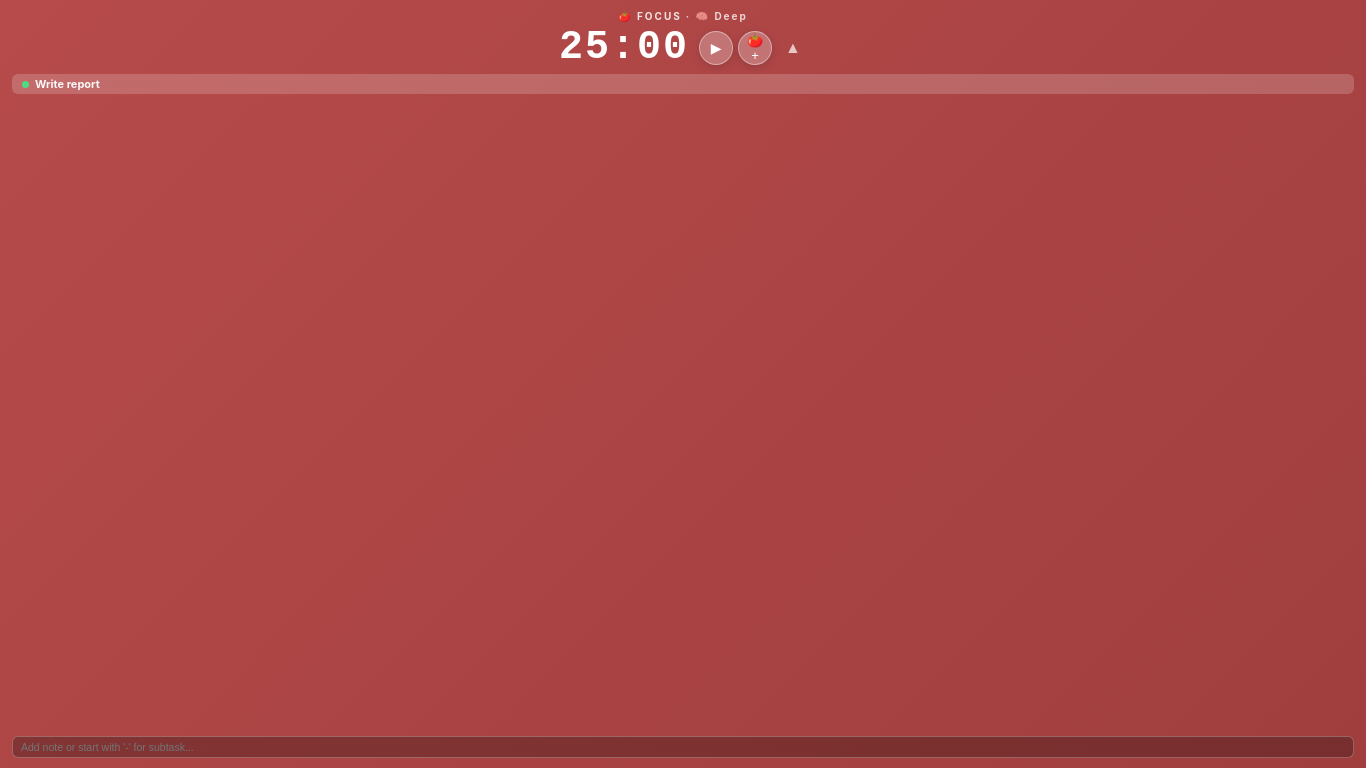
PomodoroWidgetContent Component › opens new pomodoro creation panel when clicking 🍅+
The width and height of the screenshot is (1366, 768).
Click the button titled "Start a new Pomodoro": (755, 48) left=738, top=31, right=772, bottom=65
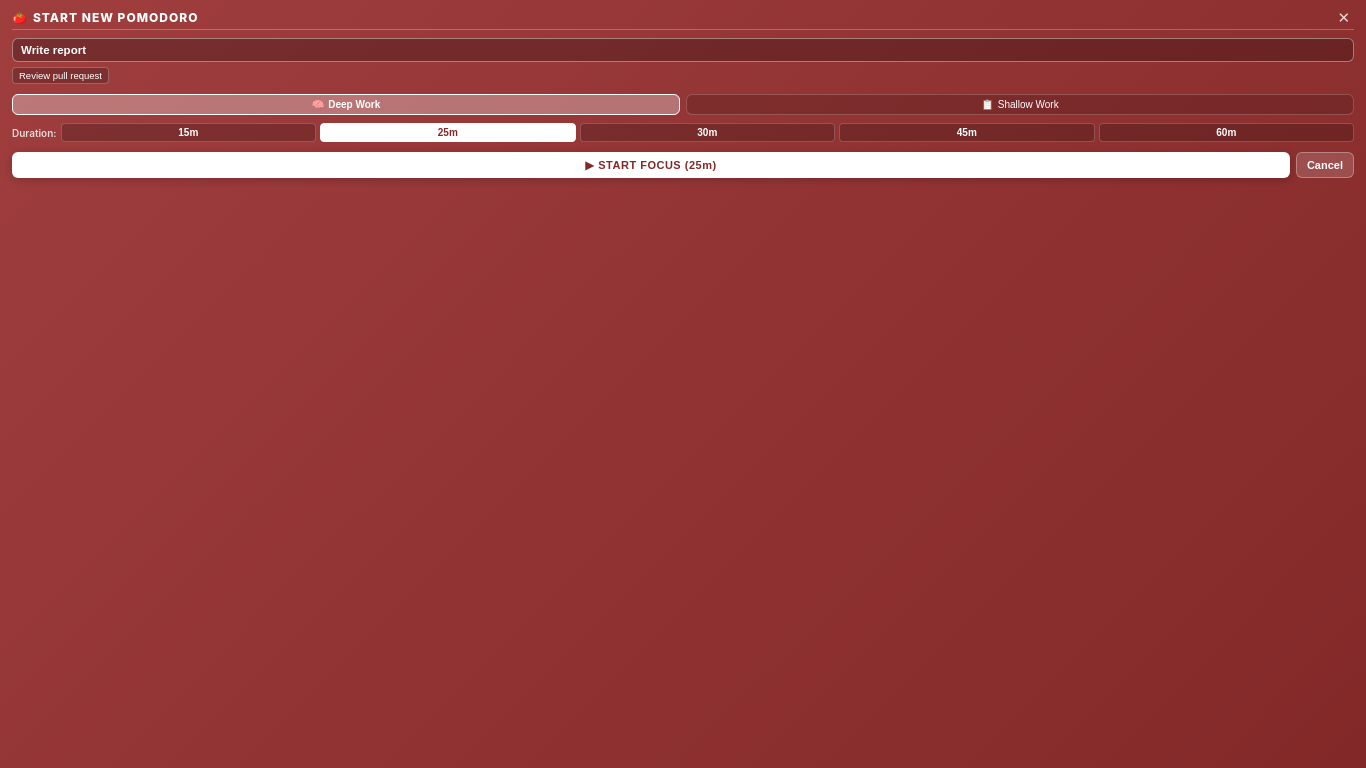
Expected: the text "START NEW POMODORO" is shown, left=33, top=10, right=198, bottom=25
Expected: the field with placeholder "What are you focusing on?" is shown, left=12, top=38, right=1354, bottom=62
Expected: the button "▶ START FOCUS (25m)" is shown, left=12, top=152, right=1290, bottom=178
